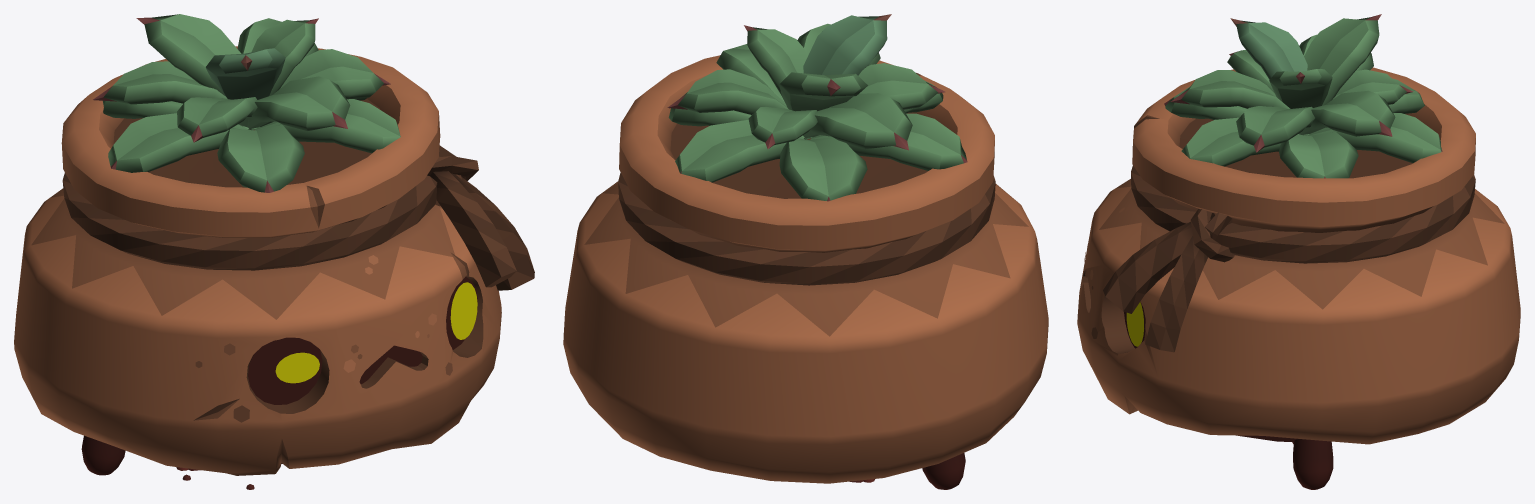
Rendered from pot_3.fbx.
3 views of the same model, side by side, from view 1: azimuth 30°, elevation 25°; view 2: azimuth 150°, elevation 25°; view 3: azimuth 270°, elevation 25° (orthographic). The views are drawn at different scales.
Parts seen in each view (by area): view 1: pot_3; view 2: pot_3; view 3: pot_3.
Part boxes in pixels (x1=…): pot_3: x1=14, y1=14, x2=534, y2=489; pot_3: x1=563, y1=14, x2=1048, y2=489; pot_3: x1=1077, y1=14, x2=1520, y2=489.
Bounding box in the file's own units: 2.88 × 2.81 × 2.87.
